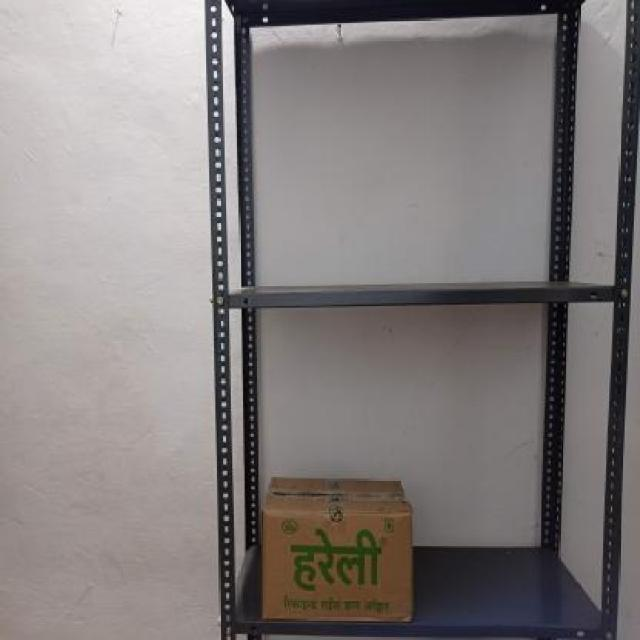box: (260, 508, 414, 622)
